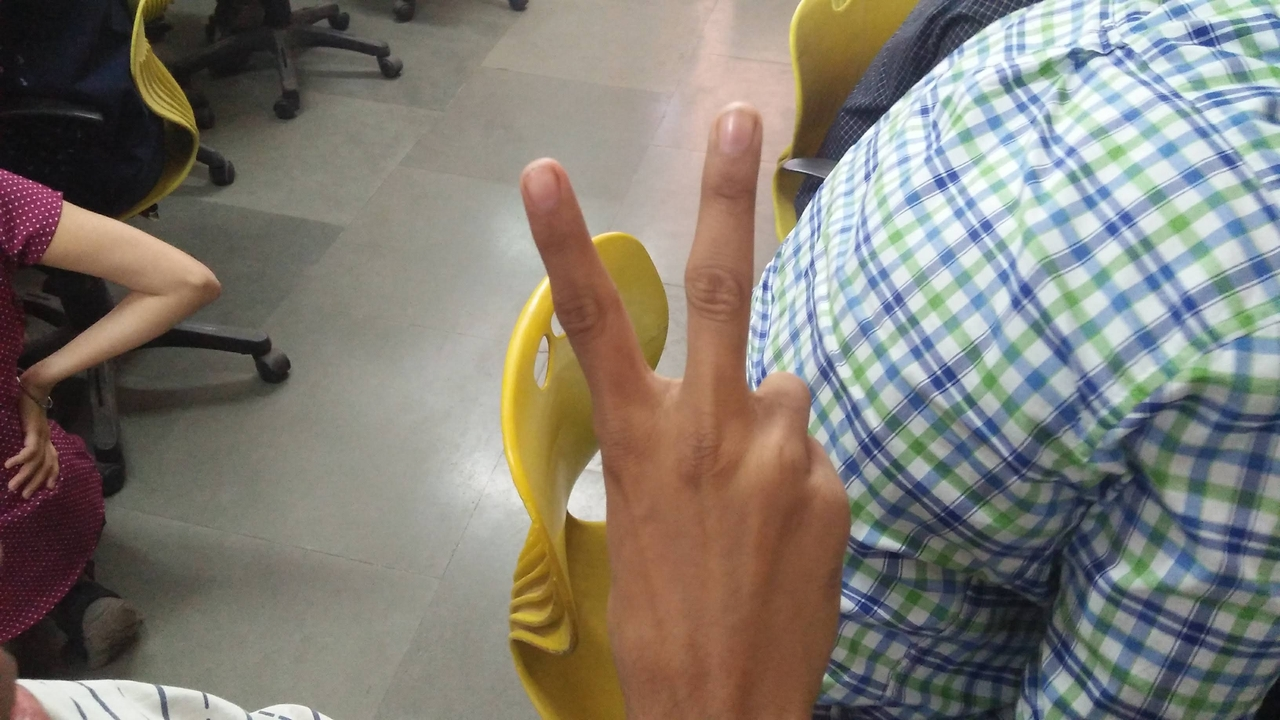fingertip: (702, 92, 770, 162), (514, 154, 576, 214)
